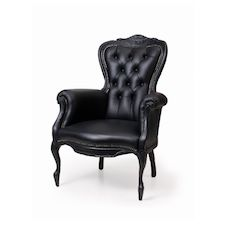chair: (33, 20, 176, 193)
